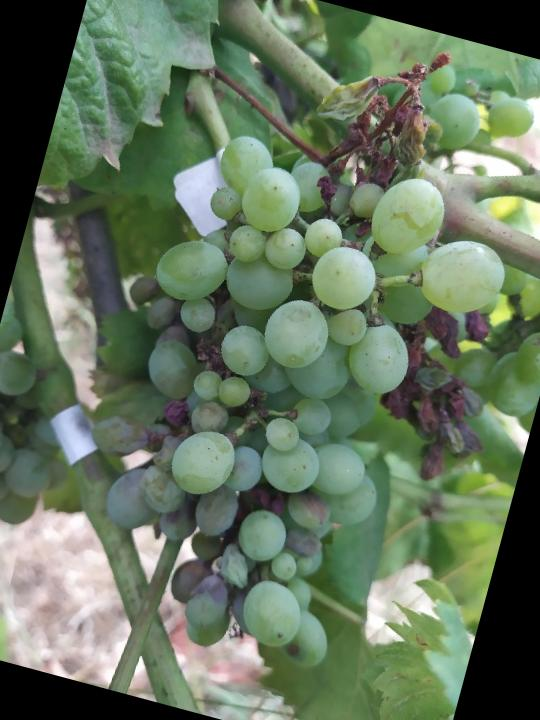grape: (42, 16, 540, 709)
